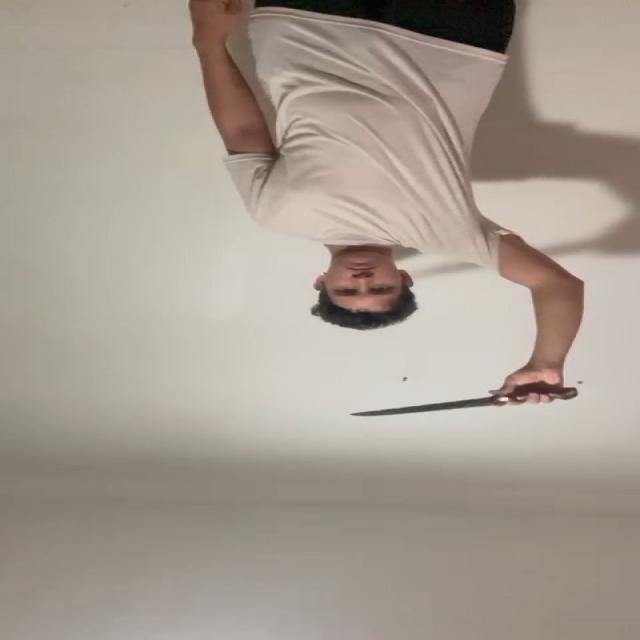knife: (350, 398, 498, 418)
